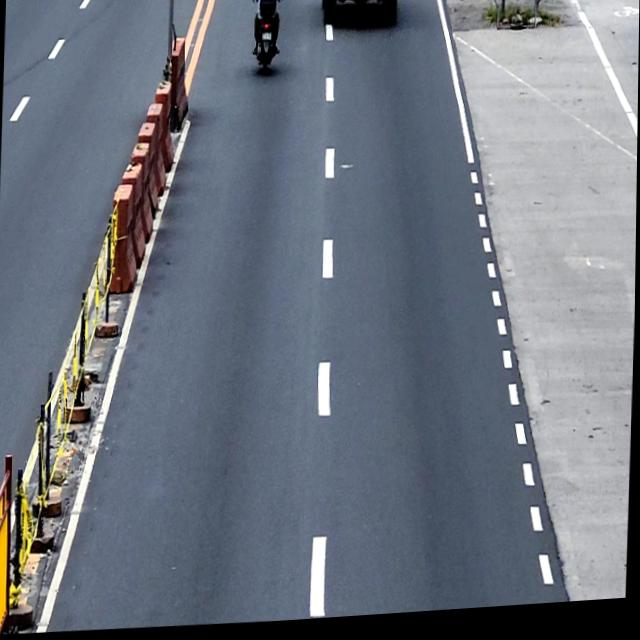Car: (320, 0, 398, 32)
License-Plate: (261, 35, 271, 45)
Motorcycle: (249, 0, 283, 79)
